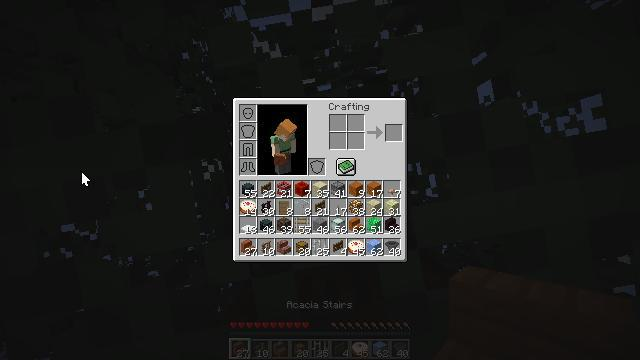cursor: (81, 171, 91, 187)
